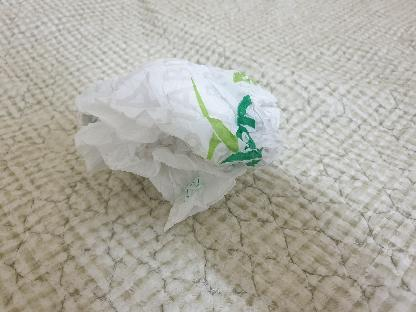Plastic Bag: (68, 49, 288, 237)
